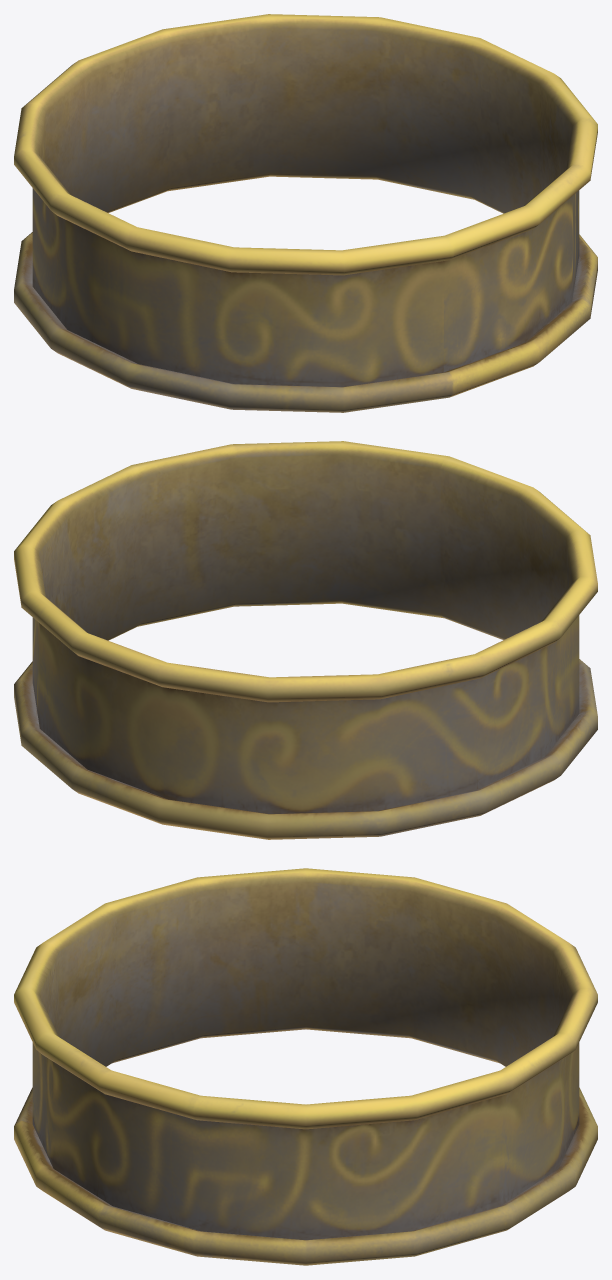
The model's file is Ring1.fbx.
The picture shows the model from 3 angles, top to bottom: view 1: azimuth 30°, elevation 25°; view 2: azimuth 150°, elevation 25°; view 3: azimuth 270°, elevation 25°; orthographic projection.
Visible parts, largest first — view 1: Ring1_LP; view 2: Ring1_LP; view 3: Ring1_LP.
Part boxes in pixels (x1,y1,x2,y2): Ring1_LP: [14, 14, 597, 412]; Ring1_LP: [14, 441, 597, 839]; Ring1_LP: [14, 868, 597, 1265].
Bounding box in the file's own units: 1.89 × 1.89 × 0.5614.
1 material, 1 textured.
